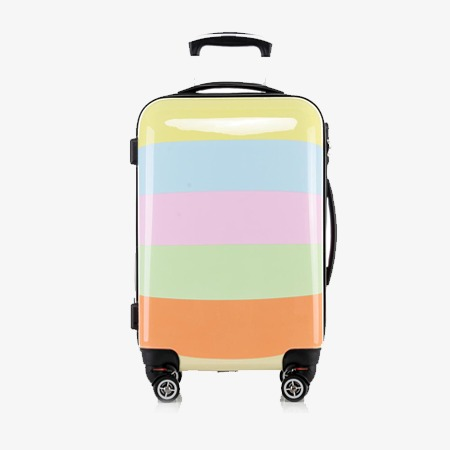box: (137, 97, 323, 374)
handle: (173, 81, 285, 95), (325, 177, 337, 286)
wheel: (281, 376, 309, 402), (153, 377, 180, 403)
